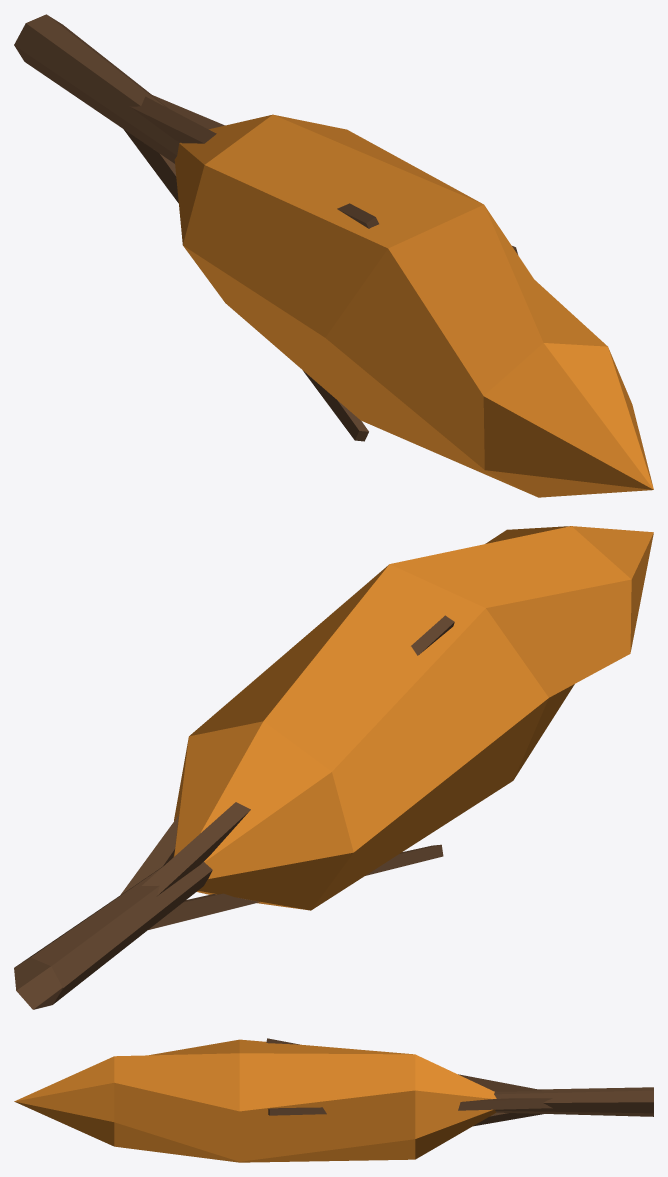
The model's file is dying_1.glb.
3 views of the same model, one above another, from view 1: azimuth 30°, elevation 25°; view 2: azimuth 150°, elevation 25°; view 3: azimuth 270°, elevation 25° (orthographic). The views are drawn at different scales.
Parts seen in each view (by area): view 1: tree_02_dying_1; view 2: tree_02_dying_1; view 3: tree_02_dying_1.
Part boxes in pixels (x1,y1,x2,y2): tree_02_dying_1: (14,14,653,497); tree_02_dying_1: (14,526,653,1009); tree_02_dying_1: (14,1038,653,1162).
Bounding box in the file's own units: 6.9 × 7.26 × 33.02.
